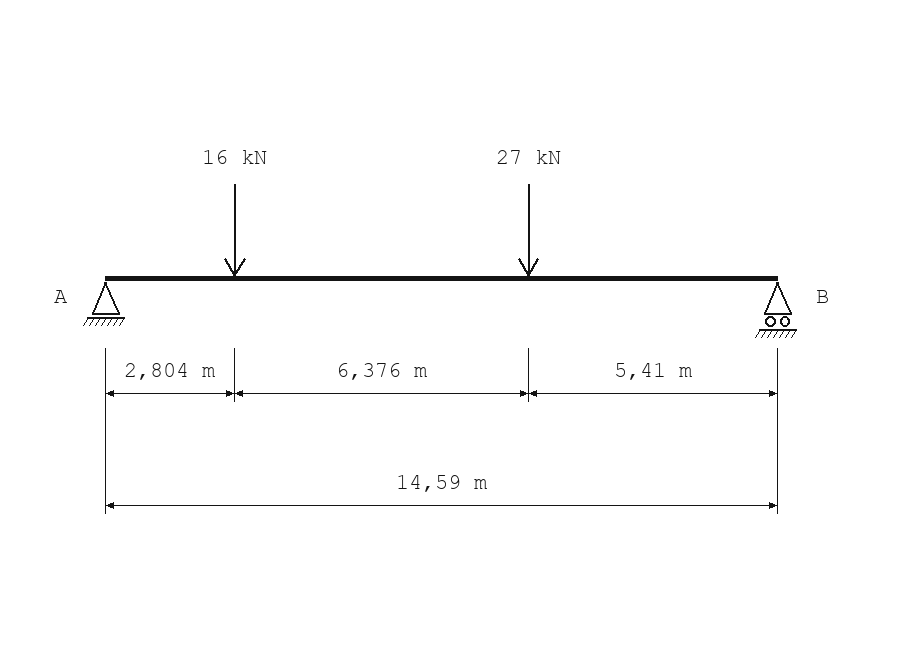pin_support: (83, 282, 125, 326)
point_load: (224, 184, 246, 277), (518, 184, 539, 277)
roller_support: (755, 282, 797, 338)
